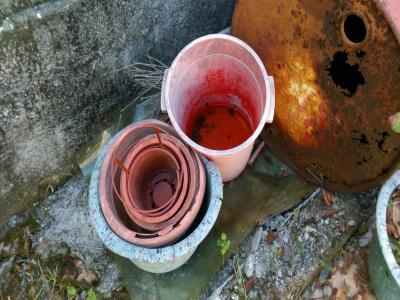bowl: (231, 1, 399, 196), (87, 117, 223, 272)
bucket: (164, 32, 278, 184)
